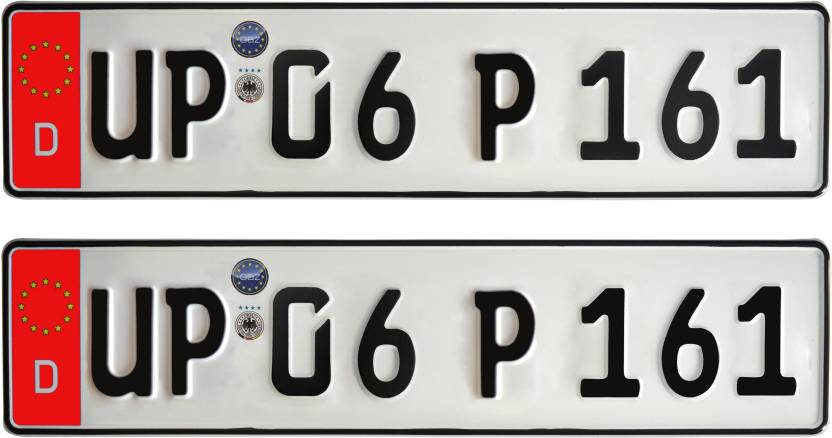number_plate: (2, 1, 831, 201), (1, 239, 830, 438)
